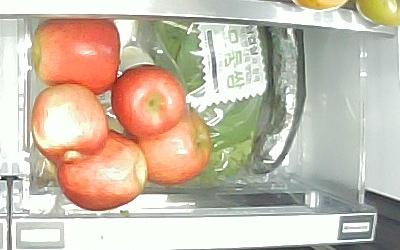apple: (58, 128, 146, 211), (30, 18, 120, 93), (129, 109, 209, 186), (30, 86, 109, 163), (113, 64, 186, 136)
